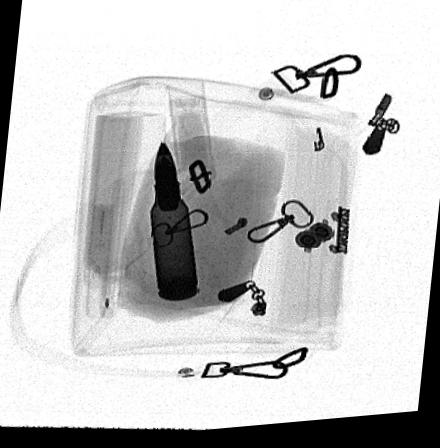Bullet: (149, 142, 198, 305)
